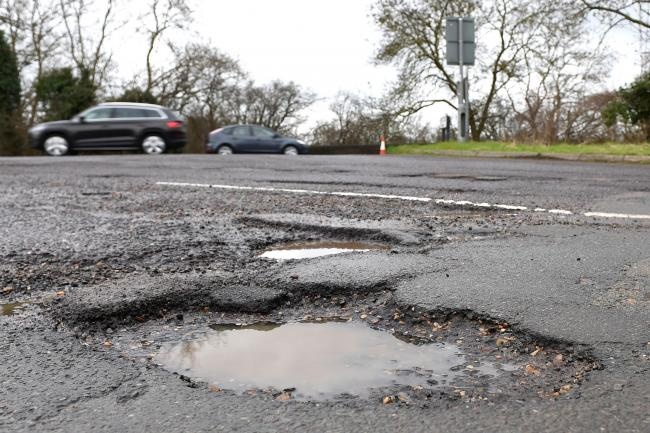pothole: (60, 235, 600, 410)
